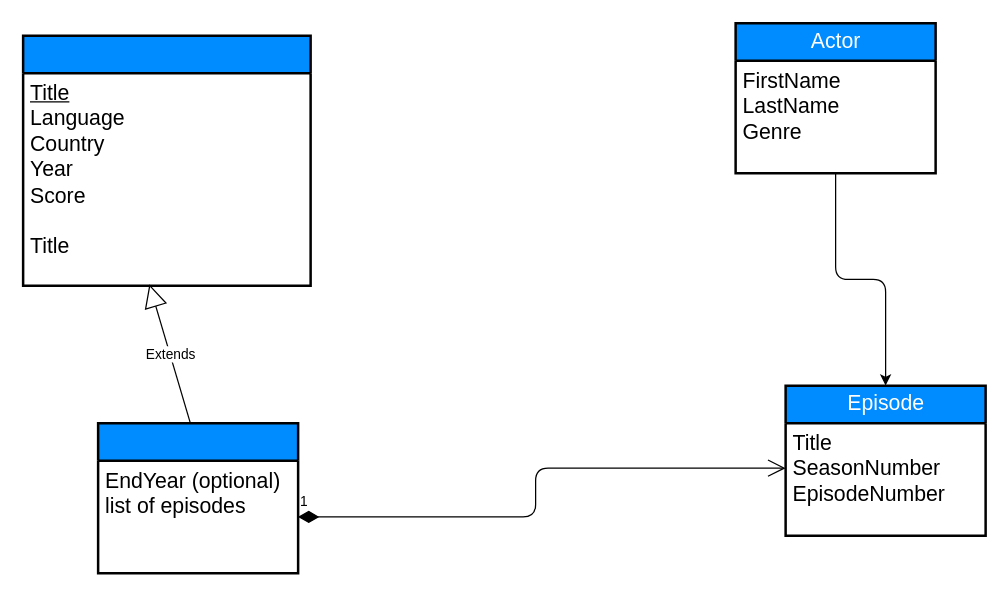
This 1008x595 diagram has some shape labels left out. Here are the shapes that lost their labels. From the top down, the box of each, then its label:
(21, 34, 311, 286): Film
(96, 421, 299, 574): Serie
